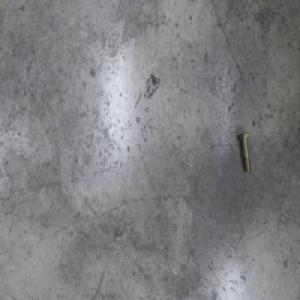Bolt: (238, 130, 251, 172)
